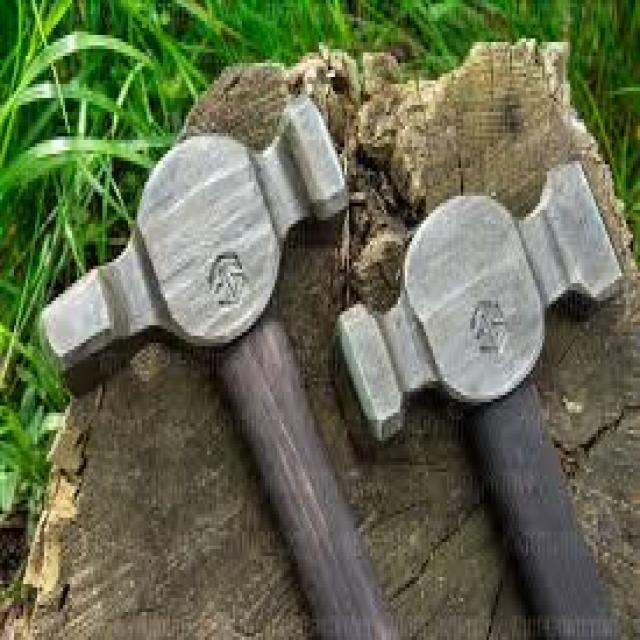hammer: (28, 91, 428, 640), (330, 157, 640, 640)
